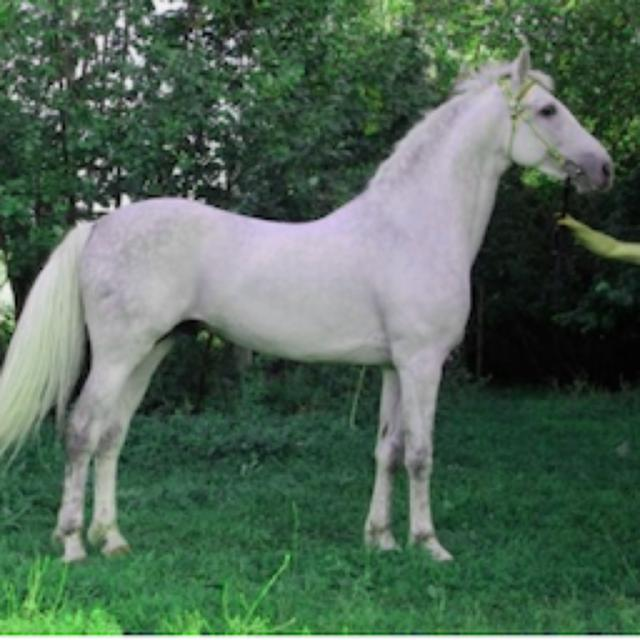Horse: (2, 40, 620, 570)
